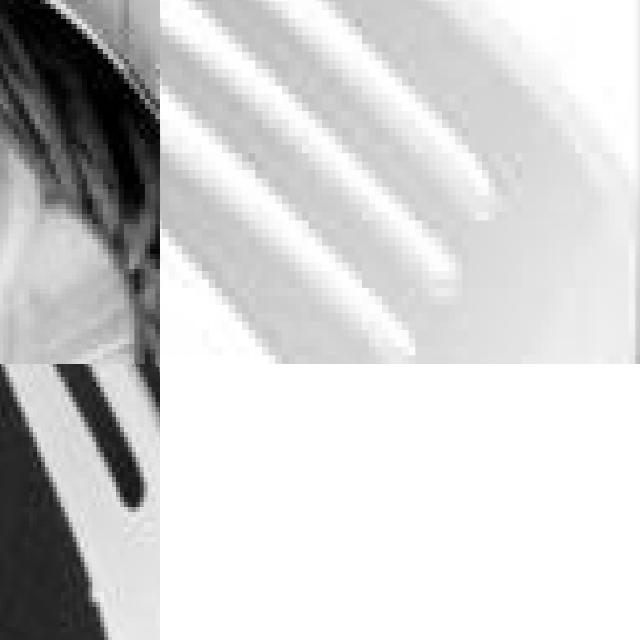forks: (160, 0, 640, 364), (0, 364, 160, 640)
spoons: (0, 0, 160, 364)
